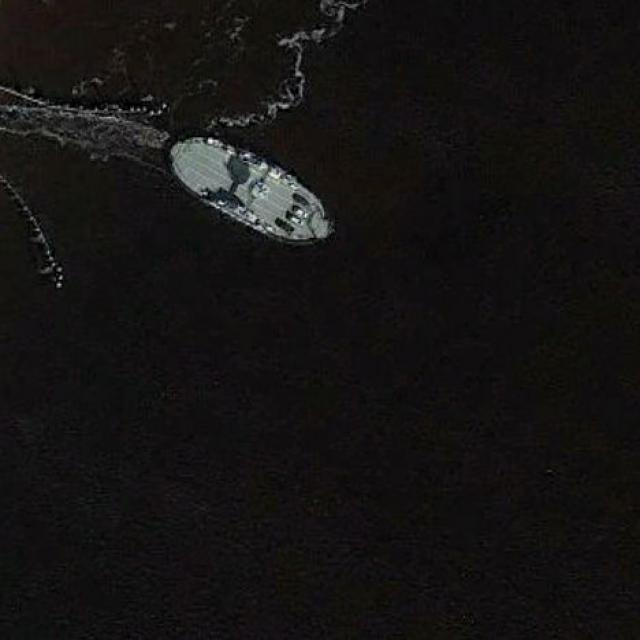ship: (165, 136, 332, 244)
